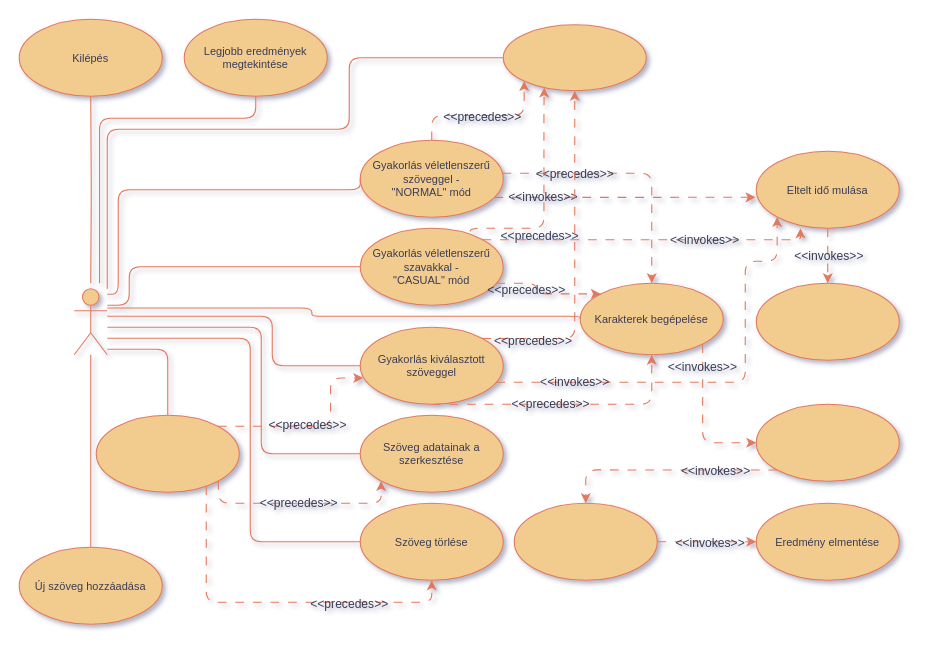
Some shapes in this 925 by 650 pixel diagram are drawn without their labels. Each missing label, with the box of its shape:
Begépelt karakterek számontartása és helyesség ellenőrzése: (755, 403, 899, 481)
Jelenglegi gépelési sebesség kiírás: (755, 282, 899, 360)
Kilépés a gyakorlásból és vissza a menübe: (502, 24, 646, 91)
Szöveg és játék vége: (513, 502, 657, 580)
Összes szöveg megtekintése: (95, 414, 239, 492)
